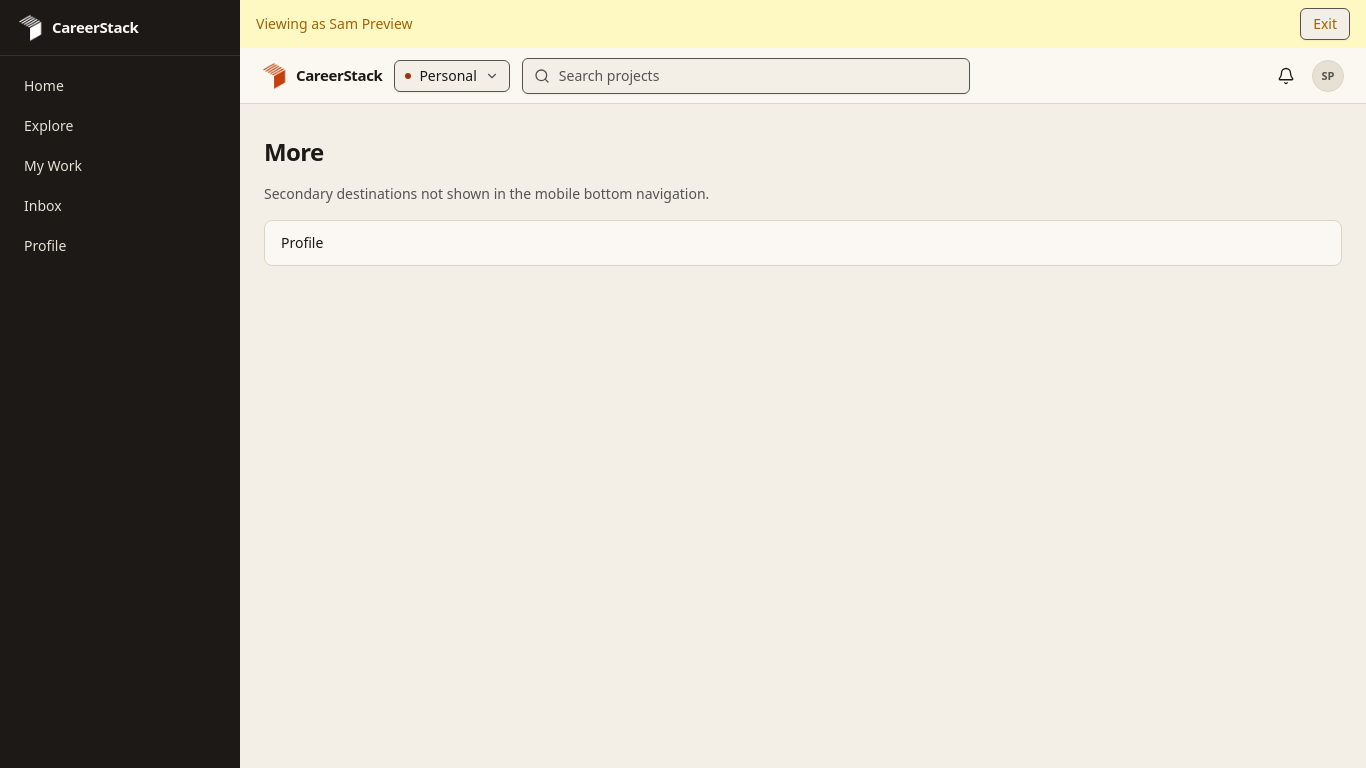
Test case: staff shell › swaps in the participant shell while impersonating and exits back
Expected: the message with test id "impersonation-banner" shows "Viewing as", [256,14,329,33]
Expected: the message with test id "impersonation-banner" shows "Sam Preview", [329,14,413,33]
Click the button "Exit".
click(1325, 24)  # box [1300,8,1350,40]
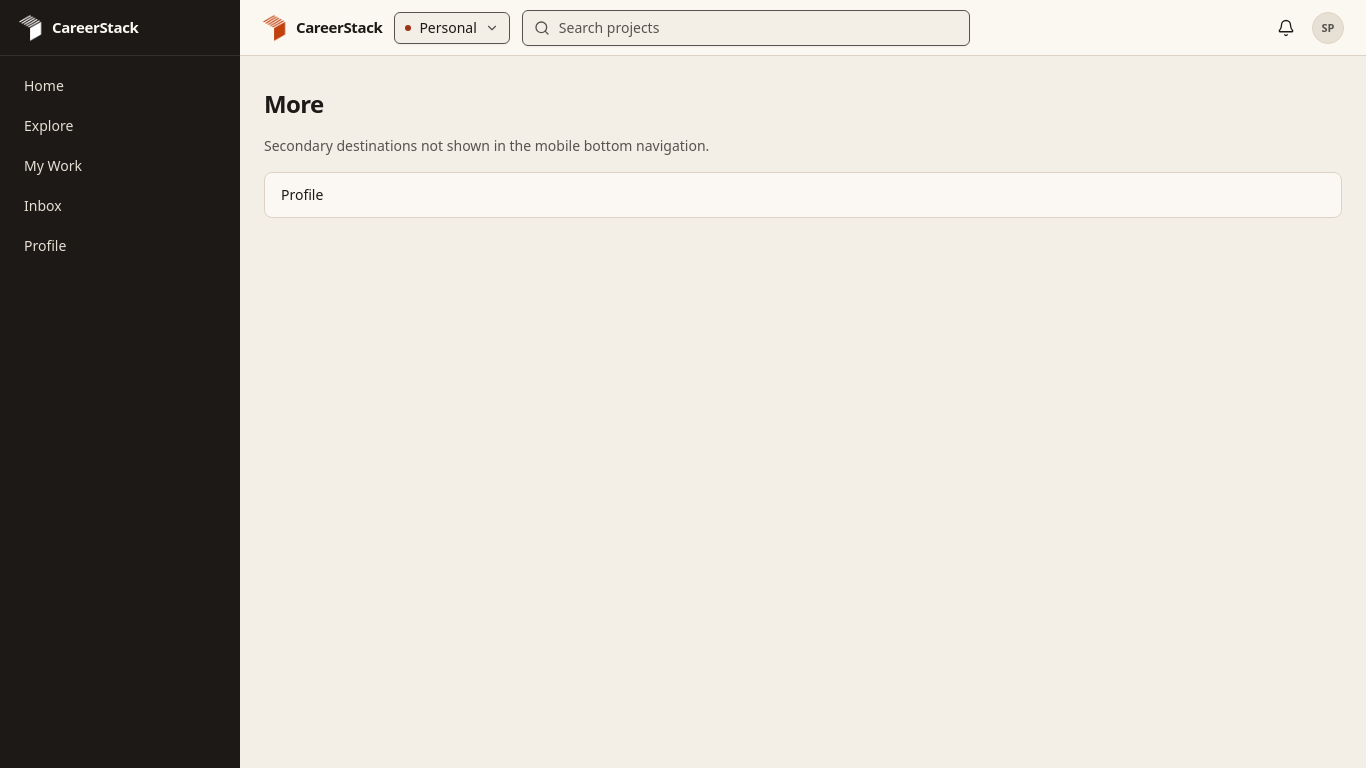
Expected: the message with test id "impersonation-banner" is gone
